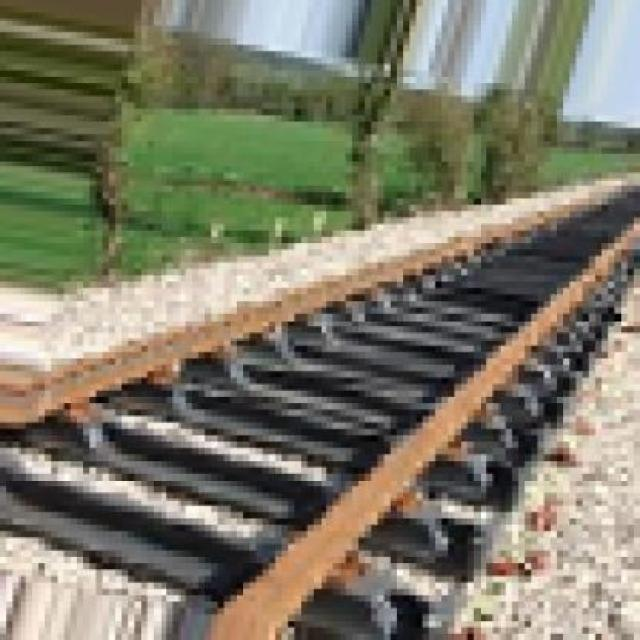non-defective: (0, 167, 638, 638)
